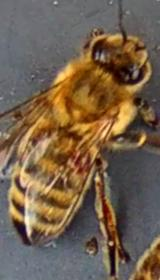varroa_mite: (63, 142, 91, 176)
